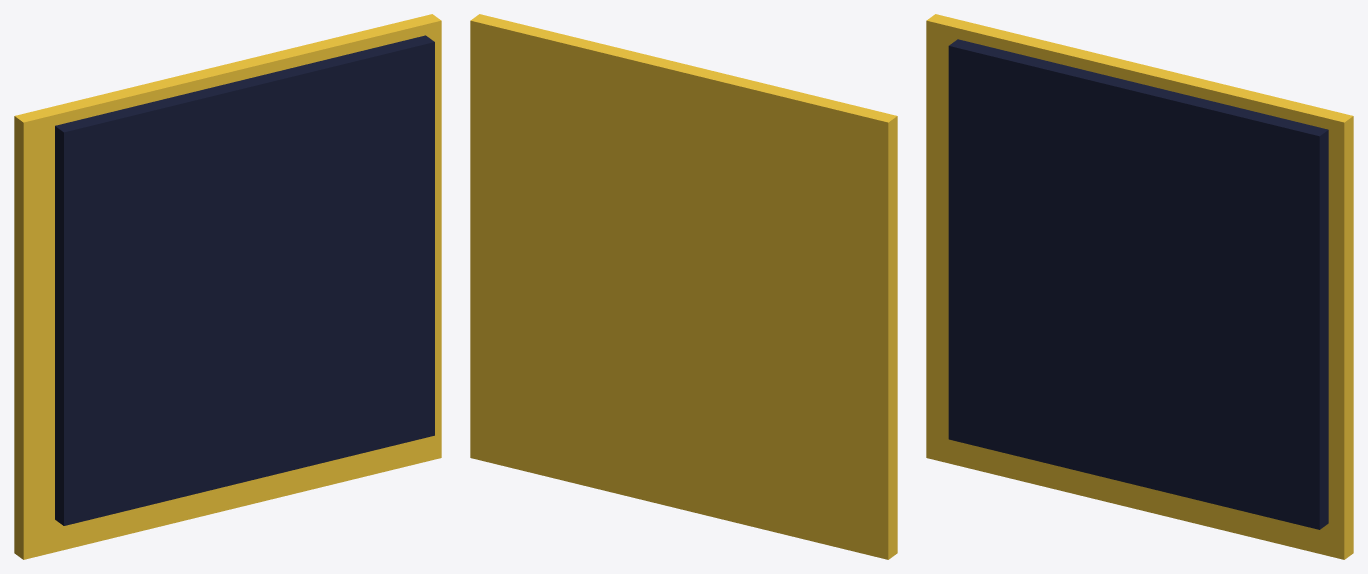
Rendered from eclipse.glb.
3 views of the same model, side by side, from view 1: azimuth 30°, elevation 25°; view 2: azimuth 150°, elevation 25°; view 3: azimuth 330°, elevation 25° (orthographic).
Visible parts, largest first — view 1: eclipse; view 2: eclipse; view 3: eclipse.
Boxes of the visible parts, x1,y1,x2,y2 form: eclipse: (14,14,441,559); eclipse: (470,14,897,559); eclipse: (926,14,1353,559).
Size of the model in its own units: 0.8 by 0.8 by 0.06.
Materials: 1 (1 with a texture image).
